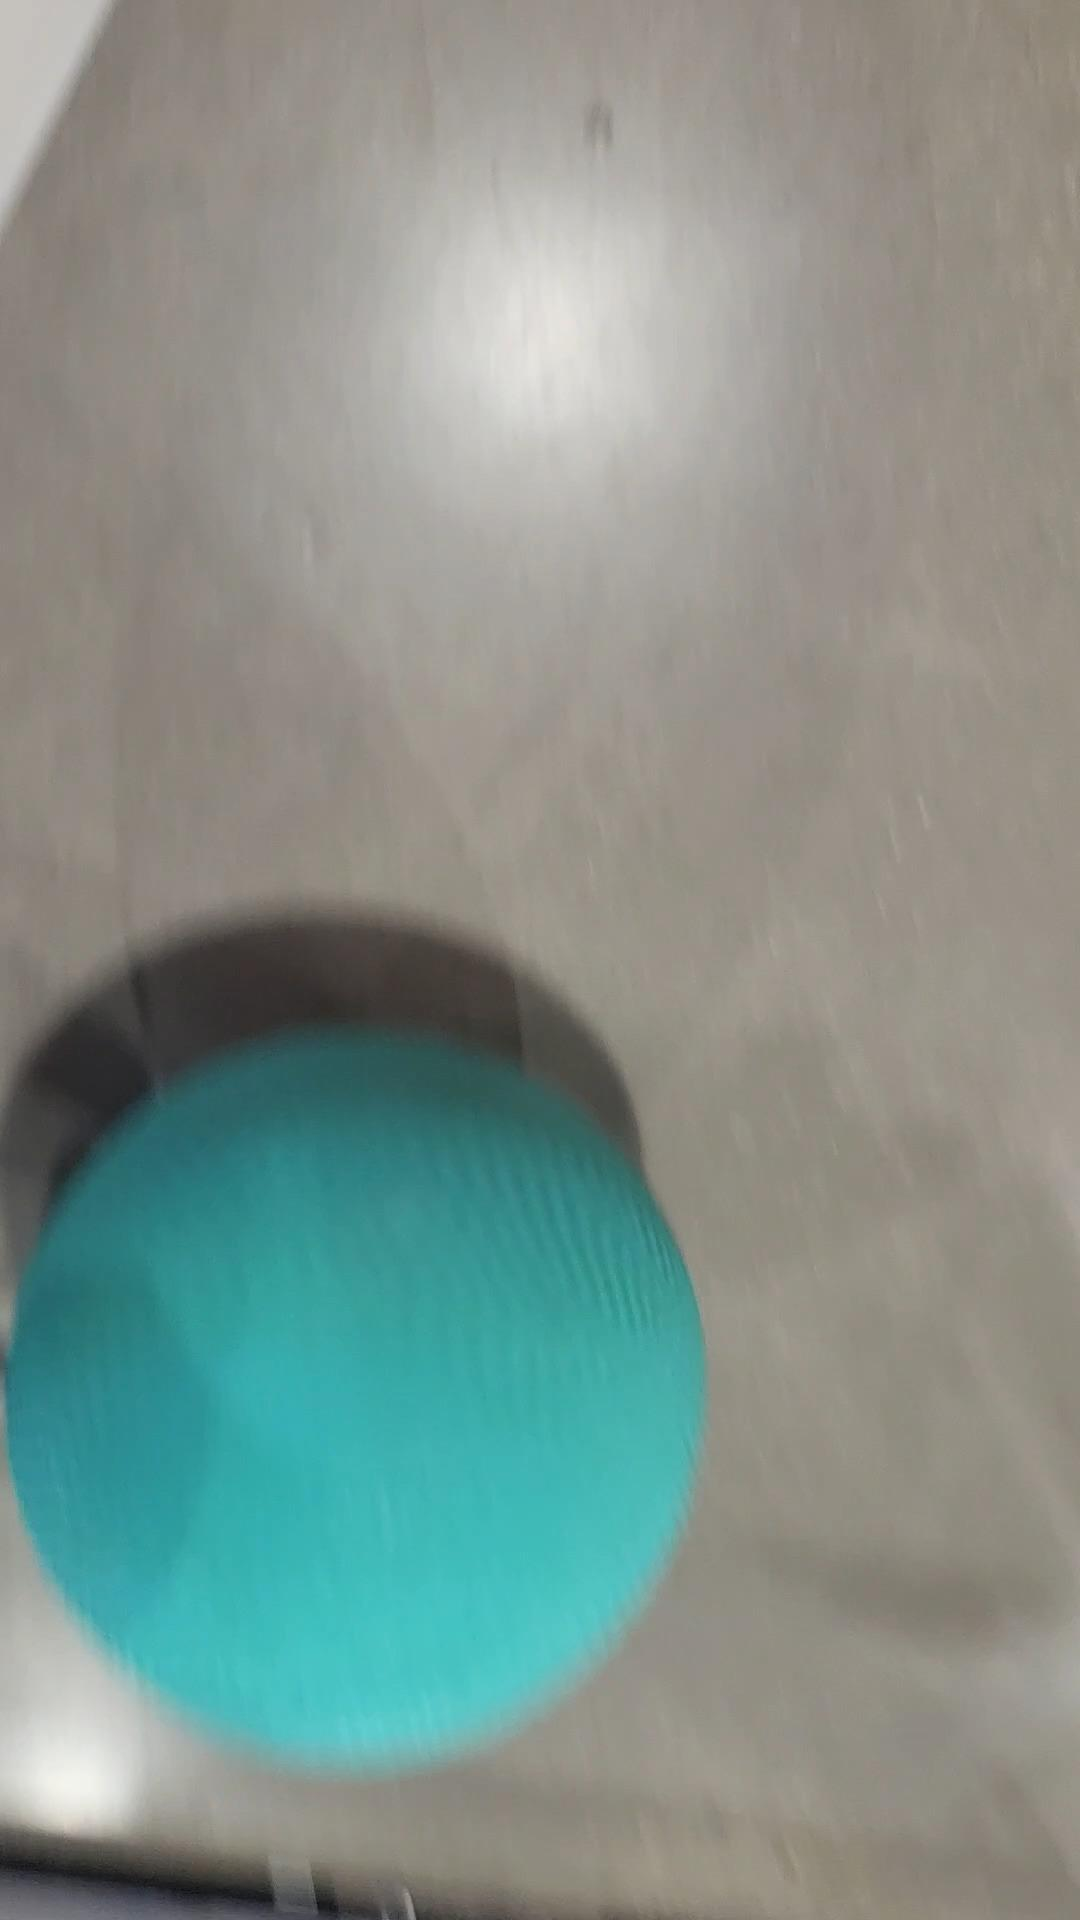algae: (7, 1021, 703, 1796)
